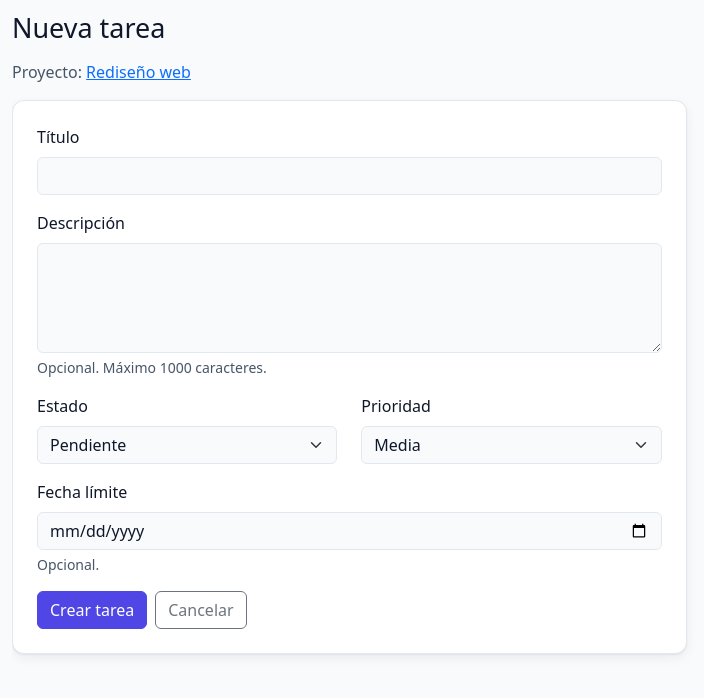
Scenario: PaginaNuevaTarea › no envía una tarea sin título
What coordinates should you click on to do the following:
click the button "Crear tarea"
I would click on:
 (92, 610)
Its box is [37,591,147,629].
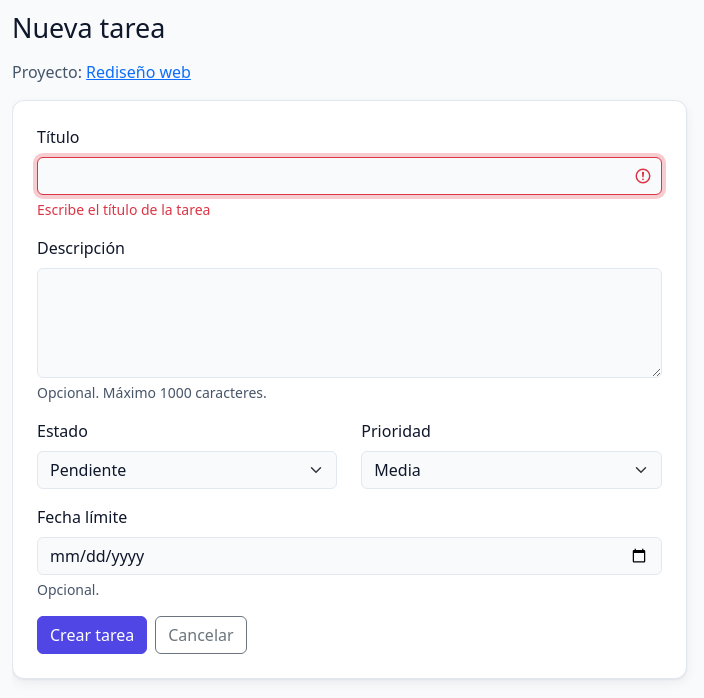
Result: the text "Escribe el título de la tarea" is shown at [37,200,210,219]
